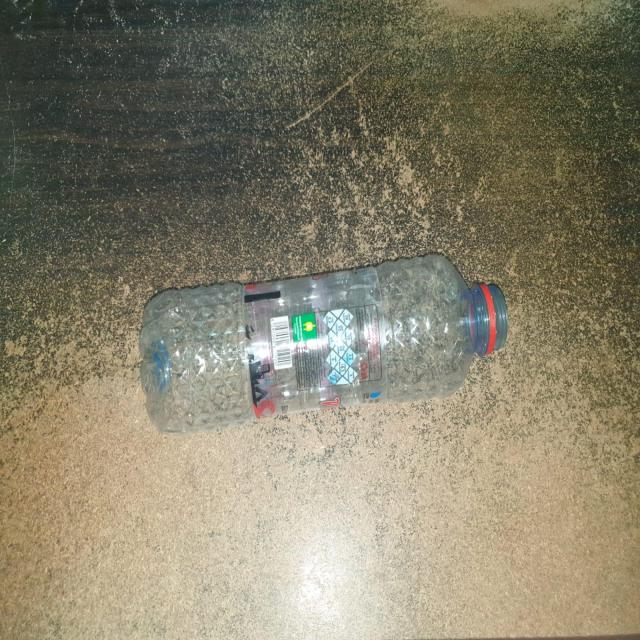bottle: (126, 255, 521, 433)
